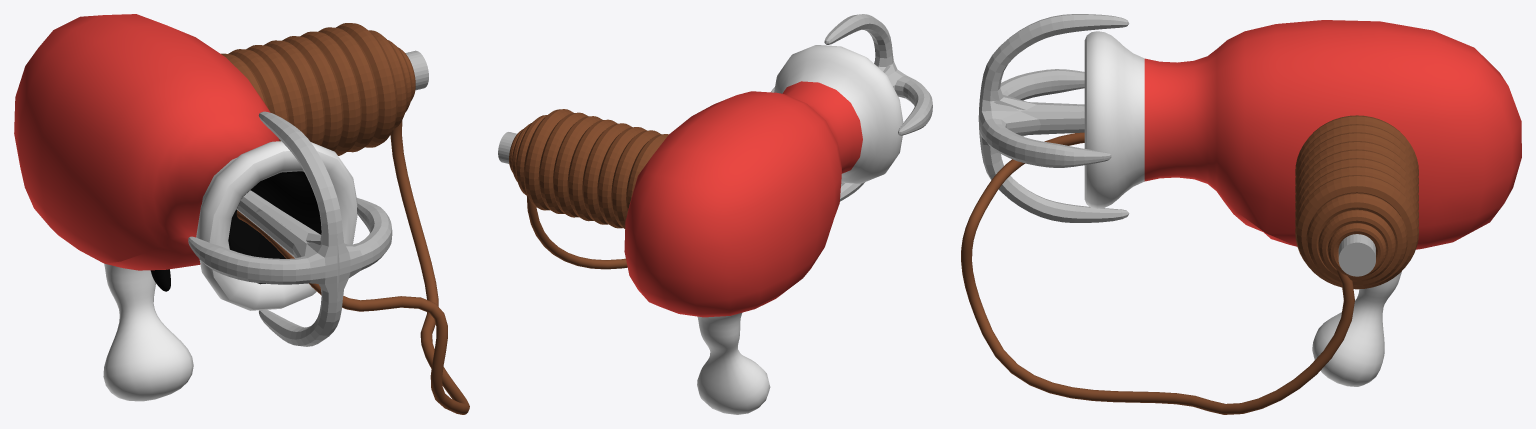
Rendered from Grapple Gun.fbx.
The picture shows the model from 3 angles, left to right: view 1: azimuth 30°, elevation 25°; view 2: azimuth 150°, elevation 25°; view 3: azimuth 270°, elevation 25°; orthographic projection. The views are drawn at different scales.
Visible parts, largest first — view 1: Cube, Cube.001; view 2: Cube, Cube.001; view 3: Cube, Cube.001.
Boxes of the visible parts, bbox=[...] form: Cube: bbox=[14, 14, 469, 414]; Cube.001: bbox=[188, 111, 392, 346]; Cube: bbox=[498, 45, 903, 414]; Cube.001: bbox=[771, 14, 932, 201]; Cube: bbox=[961, 20, 1521, 414]; Cube.001: bbox=[978, 14, 1129, 222].
Bounding box in the file's own units: 366 × 360 × 500.
